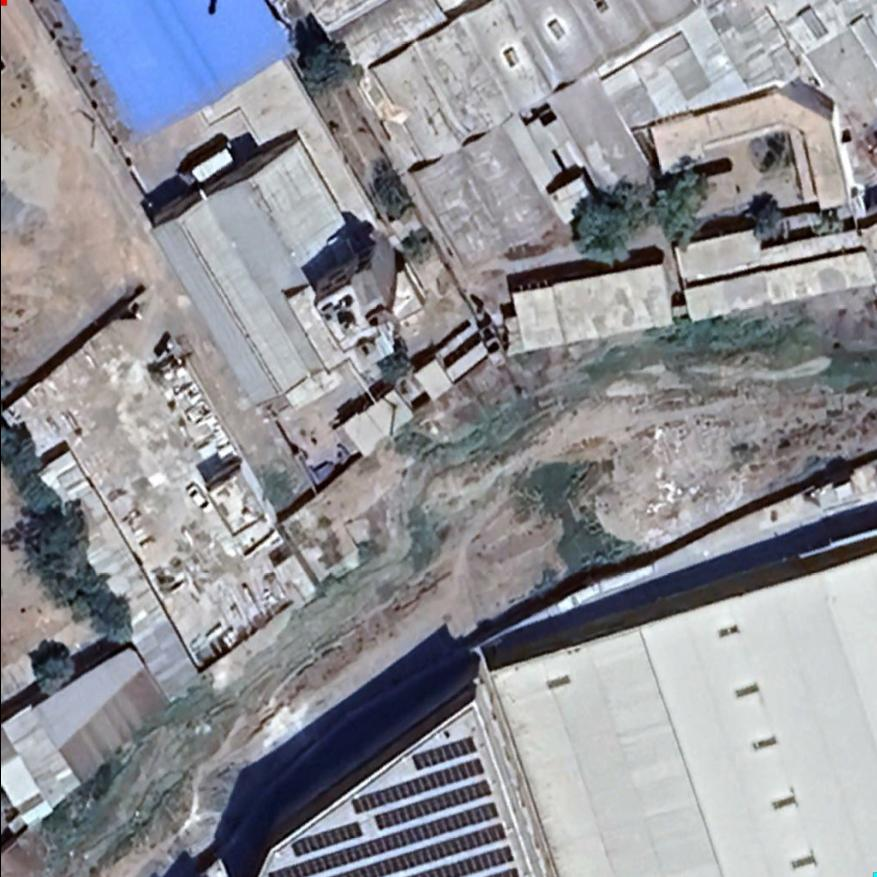Solarpanel: (245, 719, 528, 876)
